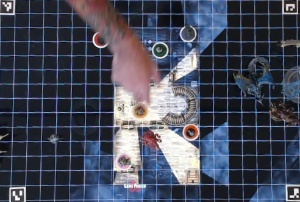green: (149, 40, 170, 60)
orange: (182, 121, 201, 141)
pink: (115, 152, 132, 172)
red: (90, 28, 111, 47)
violet: (179, 23, 197, 42)
yellow: (132, 101, 149, 116)
